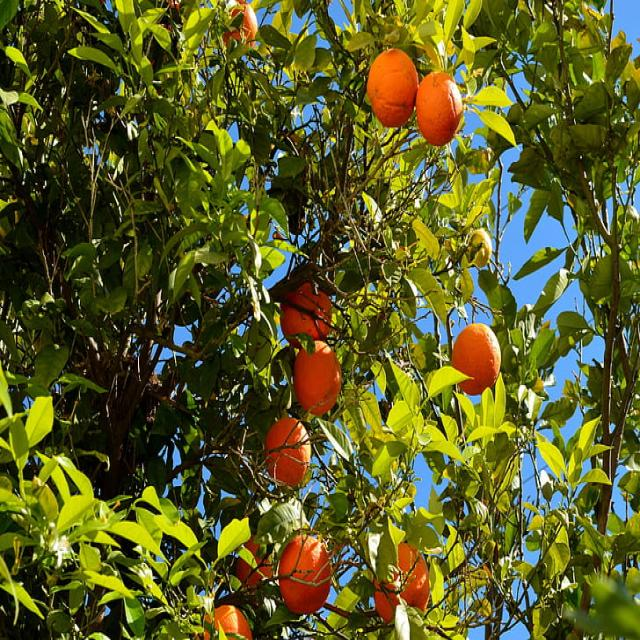orange: (290, 341, 348, 422), (282, 530, 332, 618), (419, 66, 465, 150), (364, 47, 413, 125), (447, 323, 502, 391), (265, 416, 308, 486)
